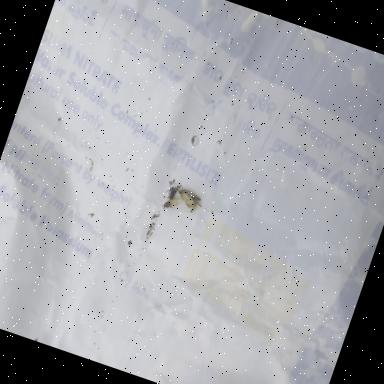pbw: (174, 186, 205, 214)
